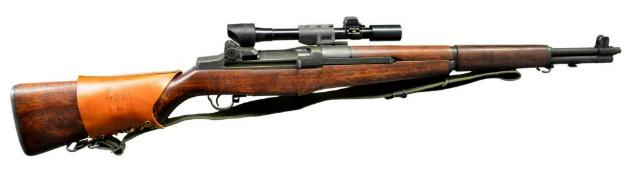rifle: (11, 17, 622, 157)
